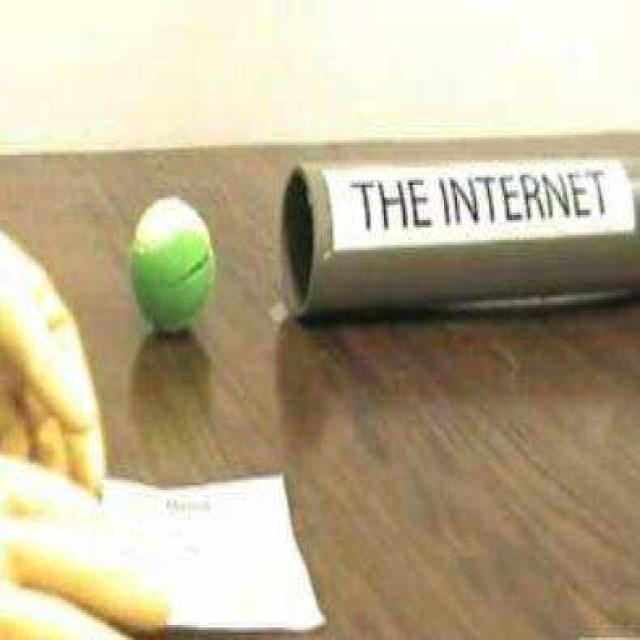Tennis_Ball: (132, 198, 215, 325)
